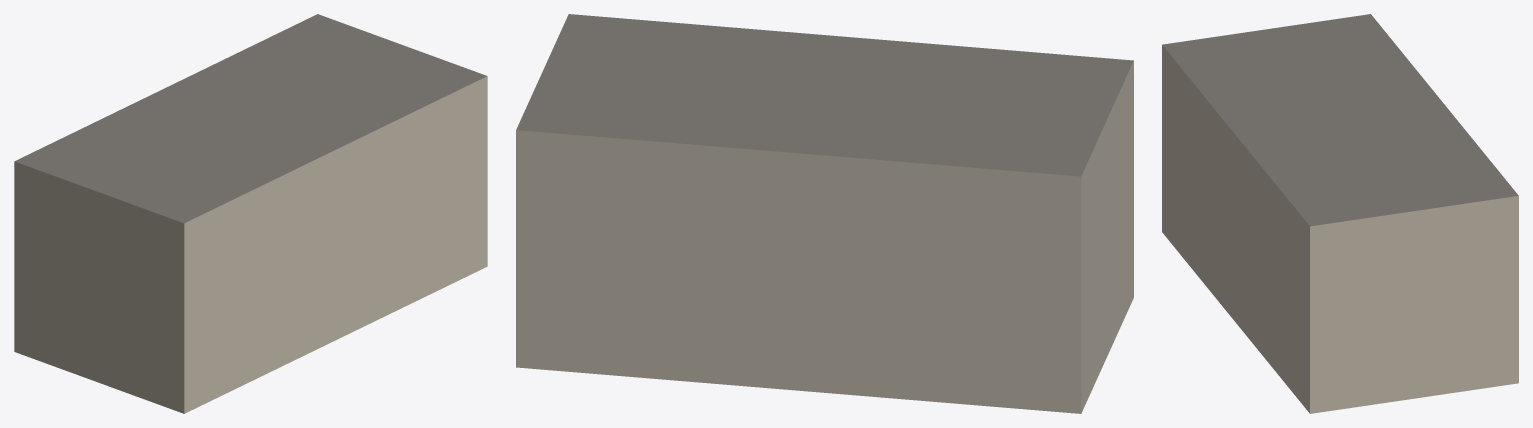
3 renders of one model, left to right at view 1: azimuth 30°, elevation 25°; view 2: azimuth 150°, elevation 25°; view 3: azimuth 270°, elevation 25°, orthographic. The views are drawn at different scales.
Visible parts, largest first — view 1: HP-w1287262152; view 2: HP-w1287262152; view 3: HP-w1287262152.
Part boxes in pixels (x1,y1,x2,y2): HP-w1287262152: [14, 14, 487, 413]; HP-w1287262152: [516, 14, 1133, 413]; HP-w1287262152: [1162, 14, 1518, 413].
Bounding box in the file's own units: 43.73 × 18 × 31.03.
